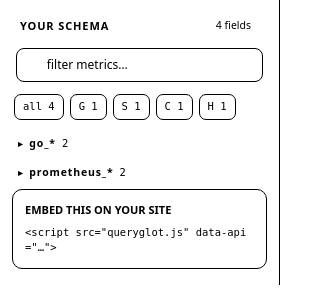
Test: SchemaRail › text filter flattens and narrows
In the field with placeholder "filter metrics…": (149, 65) [47,56,252,74], type "goroutines"
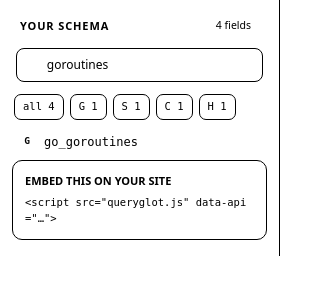
Expected: the text "go_goroutines" is shown, [44,132,138,150]
